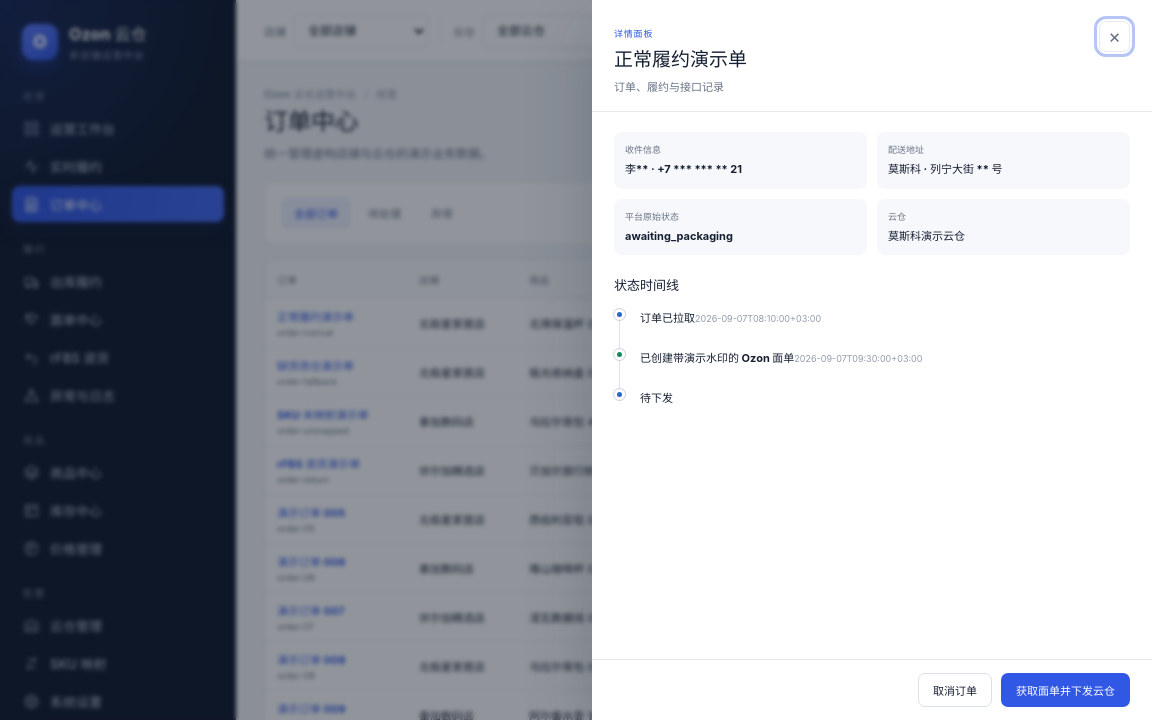
Scenario: 订单履约联动 › 订单深链接会打开筛选范围内的指定订单
Expected: the dialog "正常履约演示单" is shown, [592,0,1151,719]
Click the button named "关闭正常履约演示单": (1114, 36) [1099,21,1130,52]
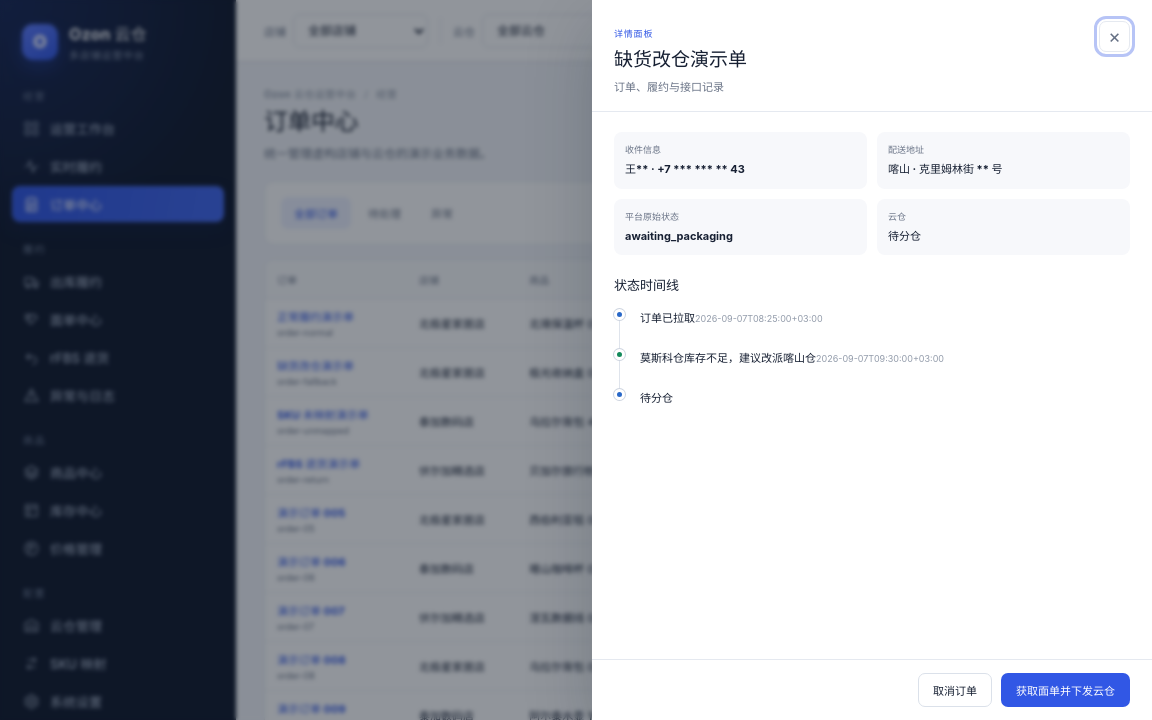
Expected: the dialog "缺货改仓演示单" is shown, [592,0,1151,719]
